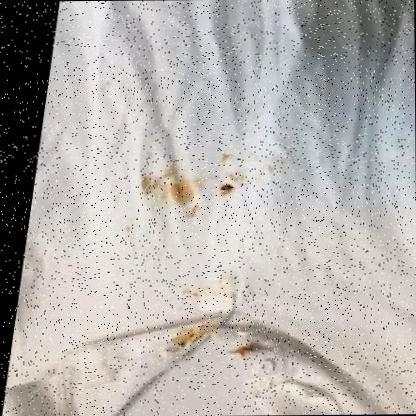coffee: (171, 182, 194, 205), (176, 331, 201, 344)
